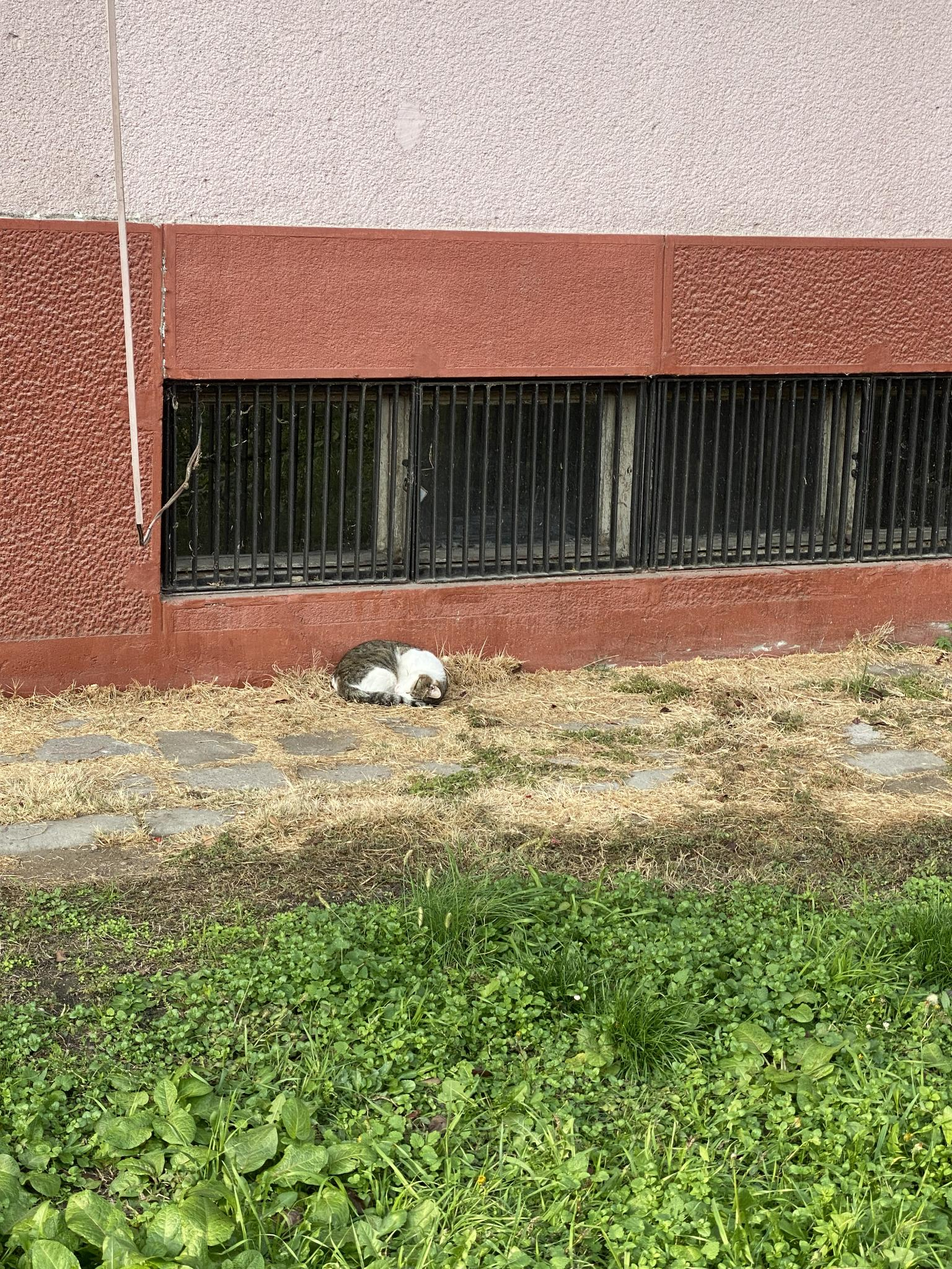macka: (329, 639, 448, 708)
